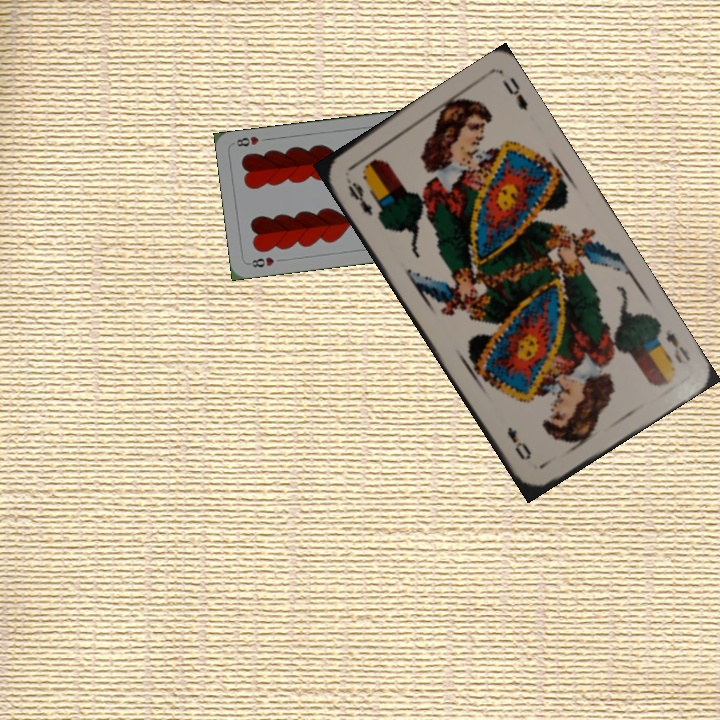EO: (341, 173, 376, 219), (662, 325, 693, 366)
H8: (245, 253, 277, 270)
